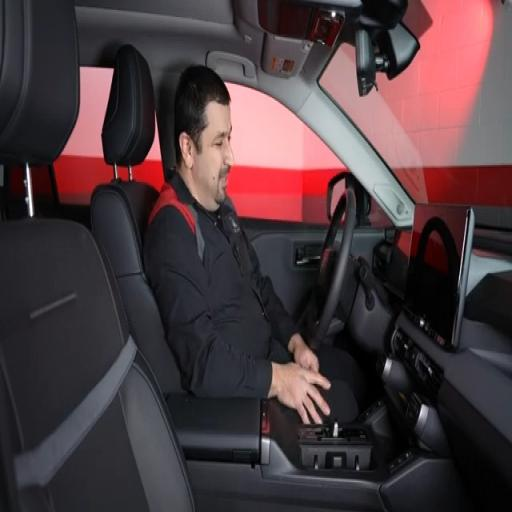side_mirror: (327, 171, 371, 226), (376, 23, 419, 79), (356, 29, 375, 96)
window: (228, 84, 345, 224)
windshield: (320, 0, 511, 214)
